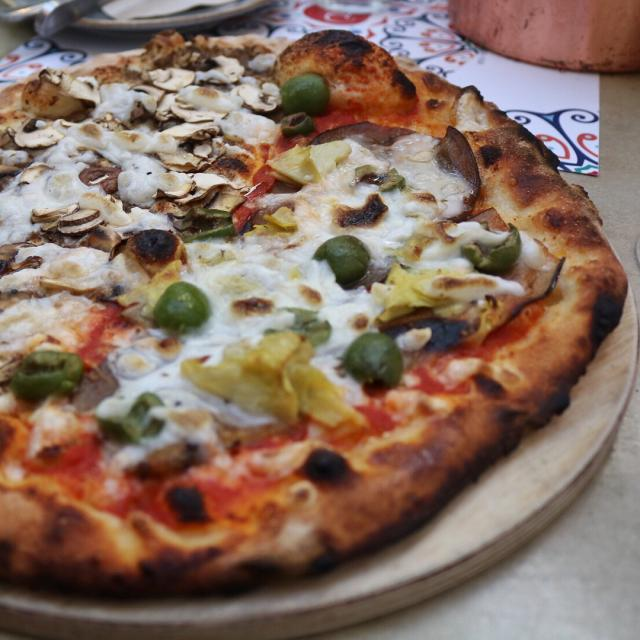green_olives: (89, 386, 167, 451), (8, 346, 86, 406), (456, 224, 530, 279), (308, 230, 371, 292), (263, 297, 334, 349), (342, 332, 407, 388), (151, 279, 212, 336), (278, 67, 335, 120), (167, 207, 242, 246), (348, 154, 409, 196), (277, 108, 312, 136)
mushrooms: (24, 201, 130, 258), (146, 172, 265, 215), (142, 122, 228, 172), (122, 85, 228, 125), (43, 268, 129, 310), (40, 70, 104, 112), (127, 58, 195, 92), (228, 75, 282, 115), (0, 236, 45, 283), (190, 50, 245, 86), (0, 150, 36, 198), (13, 117, 63, 151), (74, 160, 121, 192), (90, 108, 127, 137), (17, 161, 56, 188), (247, 52, 276, 73), (0, 124, 18, 155)
pizza: (0, 29, 626, 594)
